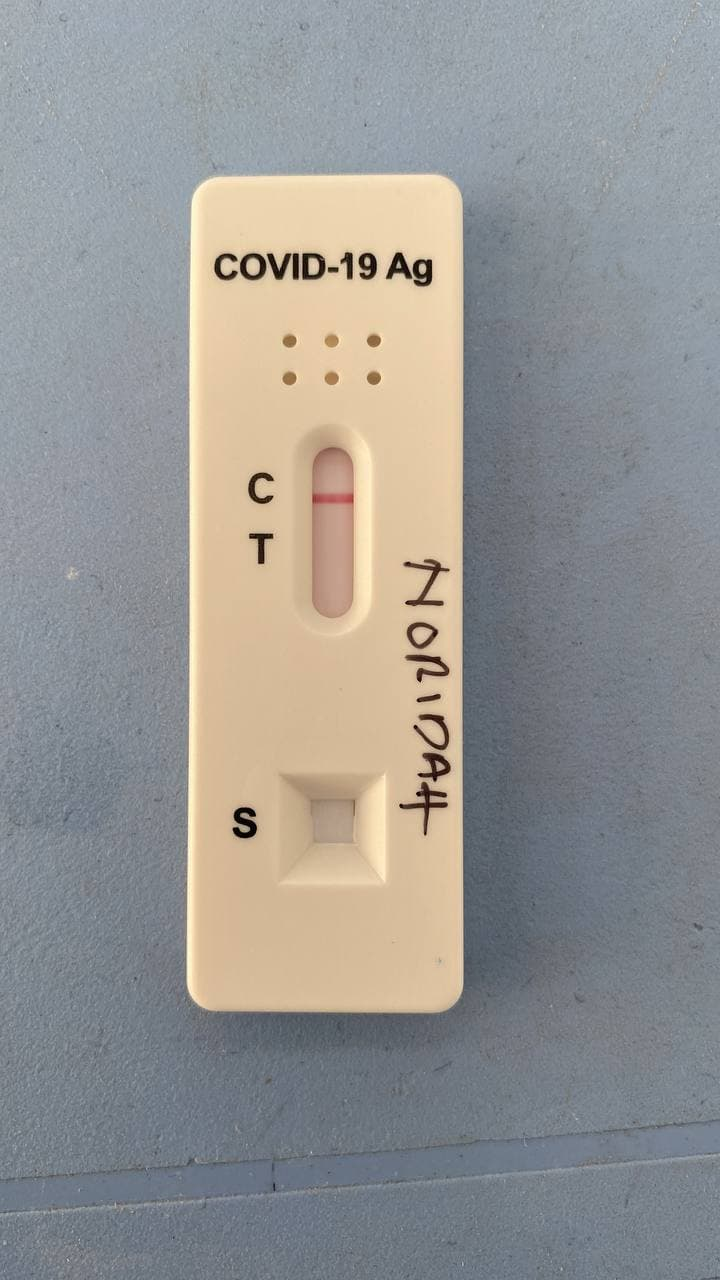rapid_test: (182, 166, 466, 1013)
